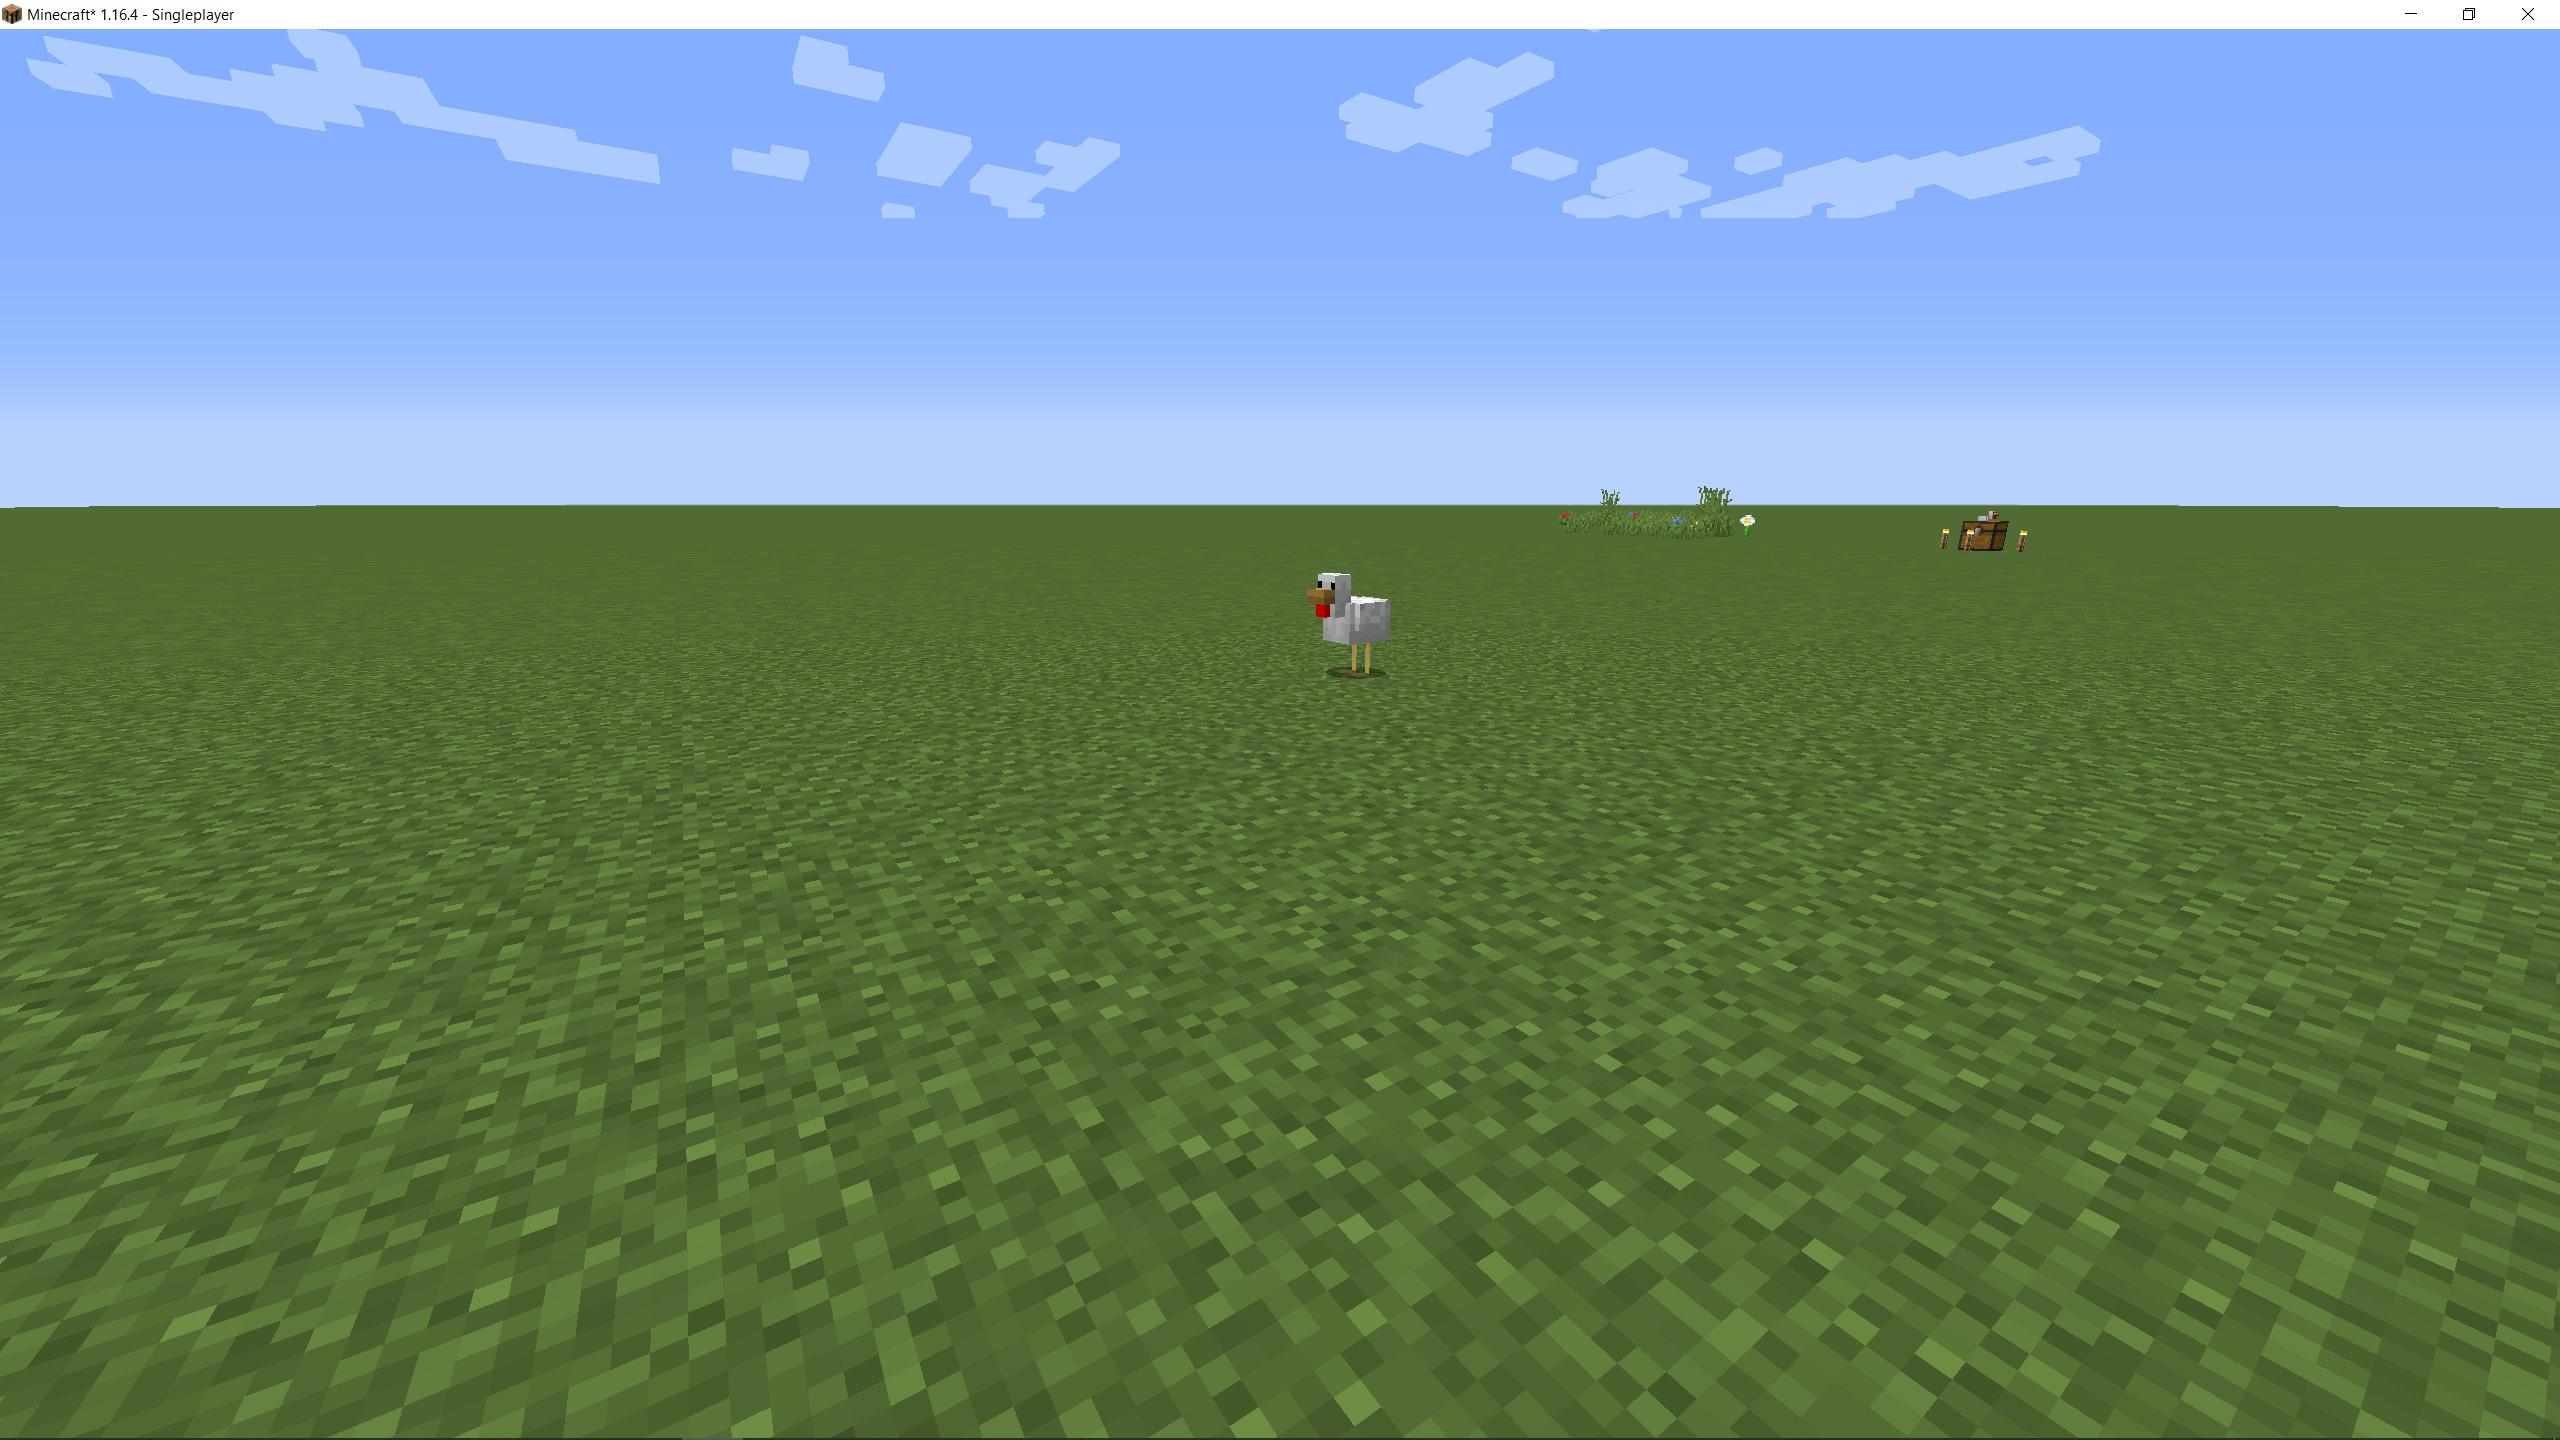chicken: (1298, 559, 1405, 687)
